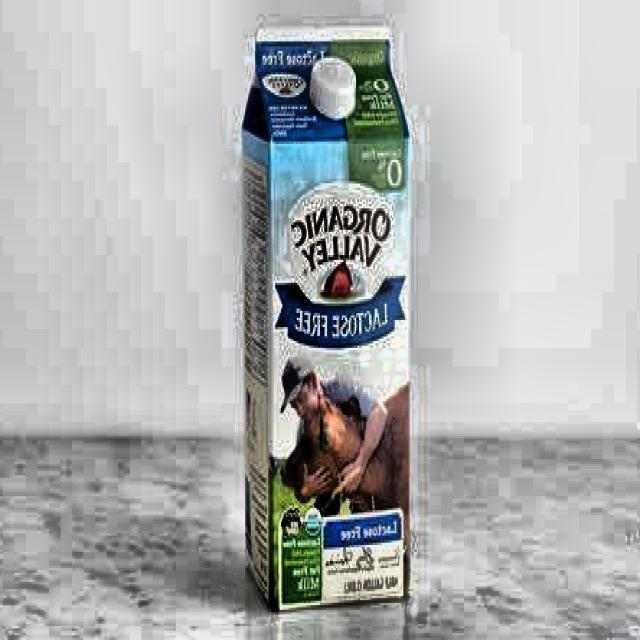cardboard: (242, 25, 414, 612)
